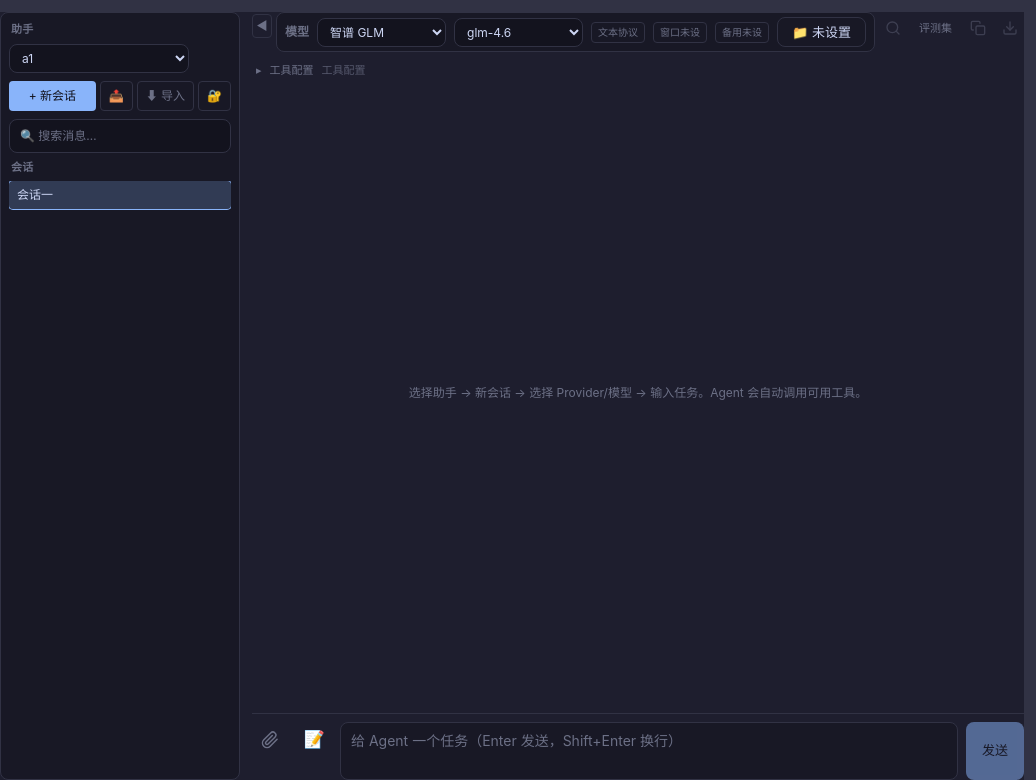
设与清：实参照写、拒绝照说 › 两个都没选 ⇒ 保存是灰的（不发一次"清除"，也不发一条空备用）
Click the button with test id "agent-fallback-badge": (742, 32) [715,22,769,42]
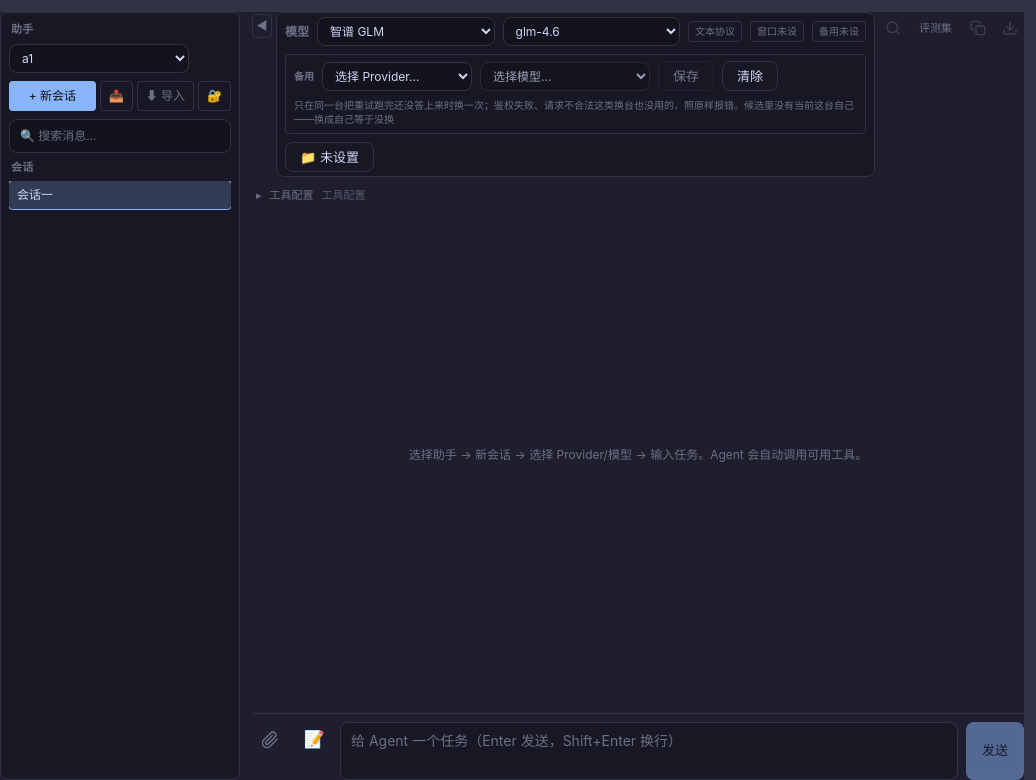
Expected: the button with test id "agent-fallback-save" is disabled, [658,61,714,91]
